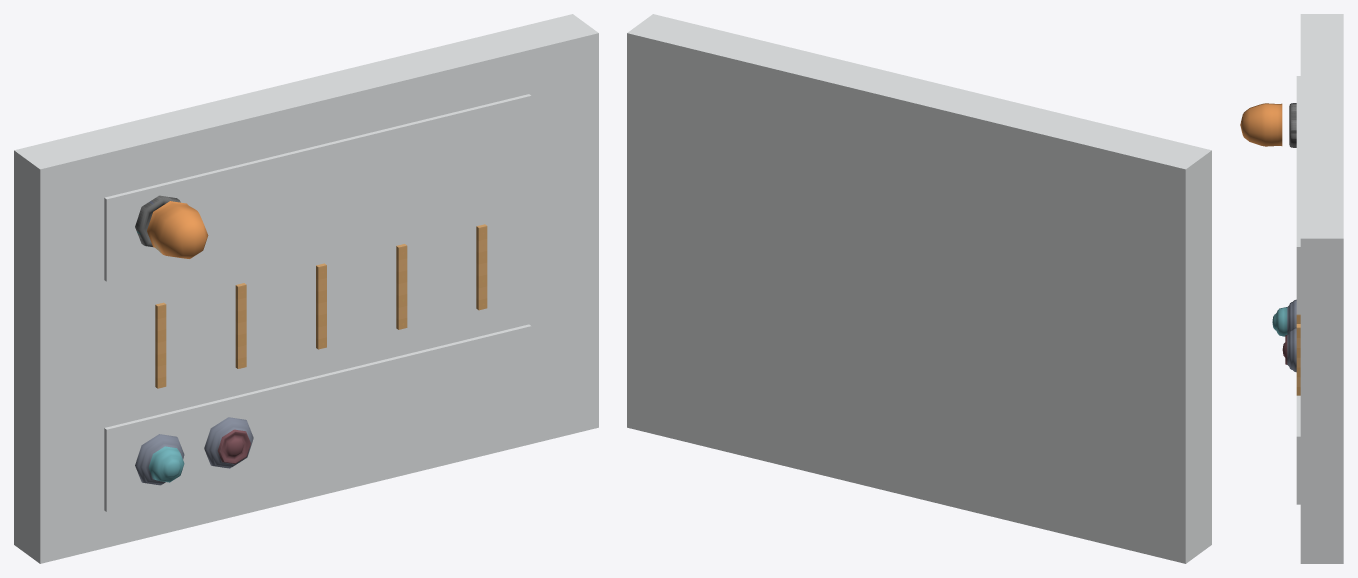
The model's file is TaskItems_Light.fbx.
The picture shows the model from 3 angles, left to right: view 1: azimuth 30°, elevation 25°; view 2: azimuth 150°, elevation 25°; view 3: azimuth 270°, elevation 25°; orthographic projection. The views are drawn at different scales.
Visible parts, largest first — view 1: Cube.002, Cube.006, Cube.009, Cube.011, Cube.016, Cube.007, Cube.015, Cube.003; view 2: Cube.002; view 3: Cube.002, Cube.016, Cube.006, Cube.007, Cube.009, Cube.015, Cube.011, Cube.003.
Boxes of the visible parts, x1,y1,x2,y2 form: Cube.002: (14, 14, 598, 563); Cube.006: (104, 94, 531, 281); Cube.009: (104, 324, 531, 511); Cube.011: (155, 224, 487, 388); Cube.016: (147, 201, 208, 258); Cube.007: (135, 434, 184, 485); Cube.015: (204, 417, 253, 468); Cube.003: (135, 195, 180, 246); Cube.002: (627, 14, 1211, 563); Cube.002: (1300, 14, 1343, 563); Cube.016: (1240, 103, 1282, 146); Cube.006: (1296, 76, 1300, 314); Cube.007: (1272, 299, 1296, 336); Cube.009: (1296, 395, 1300, 504); Cube.015: (1282, 327, 1296, 372); Cube.011: (1296, 314, 1300, 395); Cube.003: (1289, 103, 1296, 147).
Bounding box in the file's own units: 268 × 181 × 52.24.
